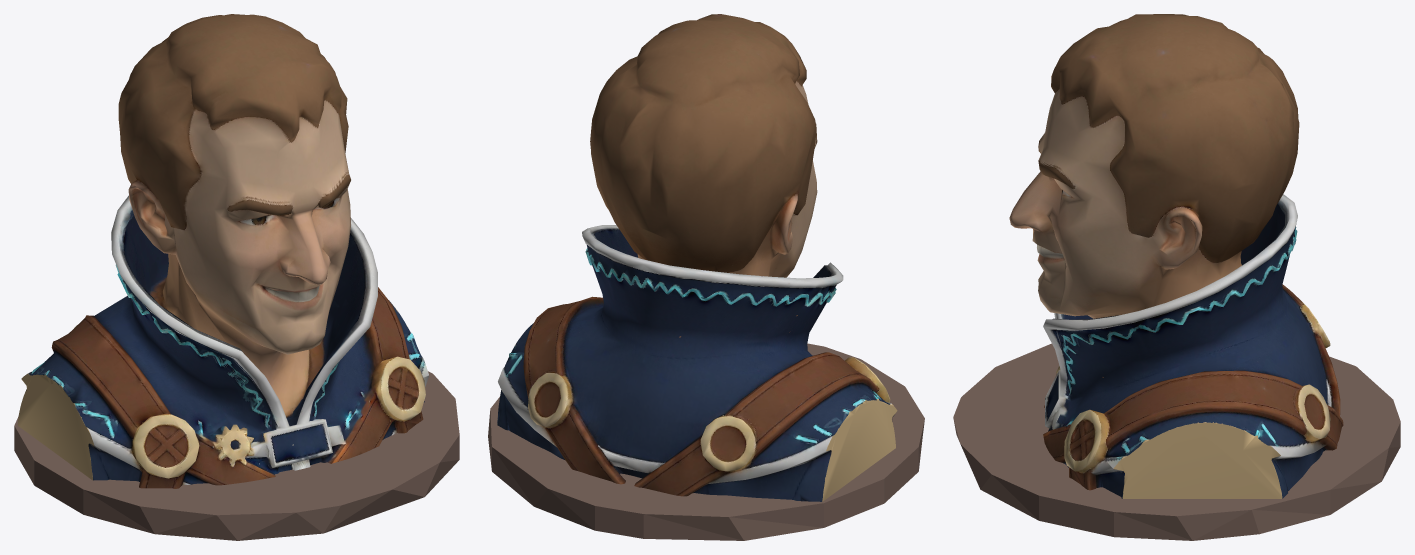
Rendered from Skacal.glb.
3 renders of one model, left to right at view 1: azimuth 30°, elevation 25°; view 2: azimuth 150°, elevation 25°; view 3: azimuth 270°, elevation 25°, orthographic.
Parts seen in each view (by area): view 1: skacal bust crop low, base; view 2: skacal bust crop low, base; view 3: skacal bust crop low, base.
Boxes of the visible parts, x1,y1,x2,y2 form: skacal bust crop low: (17,14,429,488); base: (14,371,459,540); skacal bust crop low: (497,14,897,501); base: (488,343,924,540); skacal bust crop low: (1009,14,1343,498); base: (953,343,1400,540).
Size of the model in its own units: 0.9359 by 0.9739 by 0.9401.
Materials: 2 (1 with a texture image).
